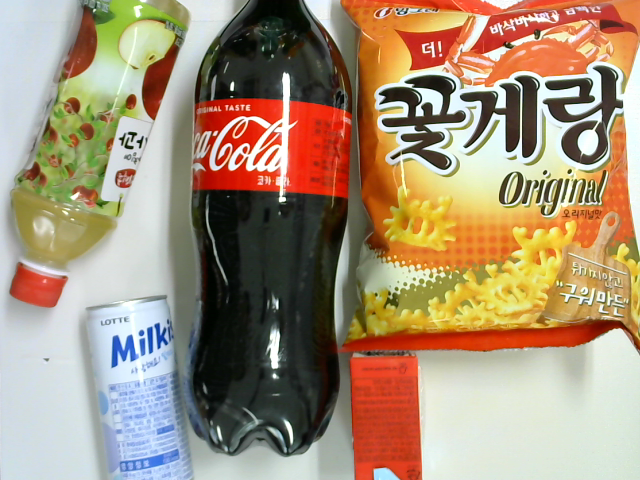Coca_Cola_1.5L: (183, 1, 353, 457)
Crabrang: (333, 1, 640, 356)
Milkies_250ml: (83, 295, 194, 480)
Morning_Apple_500ml: (8, 1, 192, 308)
Picnic_Apple: (348, 350, 422, 480)
